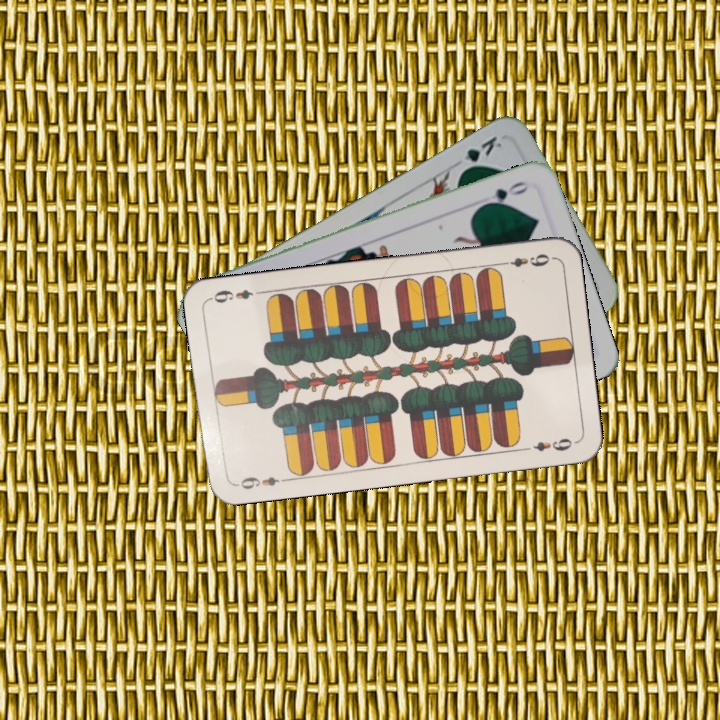E9: (230, 472, 289, 492), (496, 250, 552, 270)
GK: (456, 132, 505, 176)
GO: (477, 177, 533, 210)
